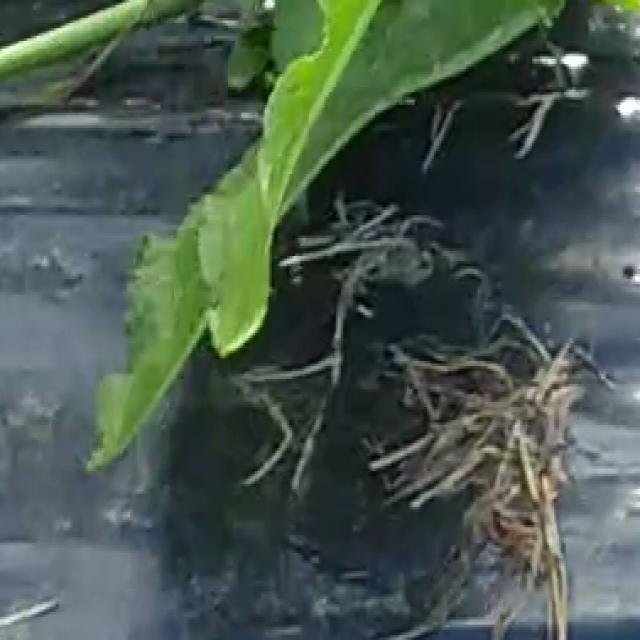organic waste: (76, 0, 640, 471)
